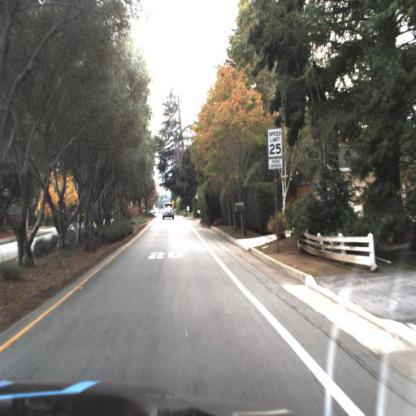car: (159, 200, 178, 224)
